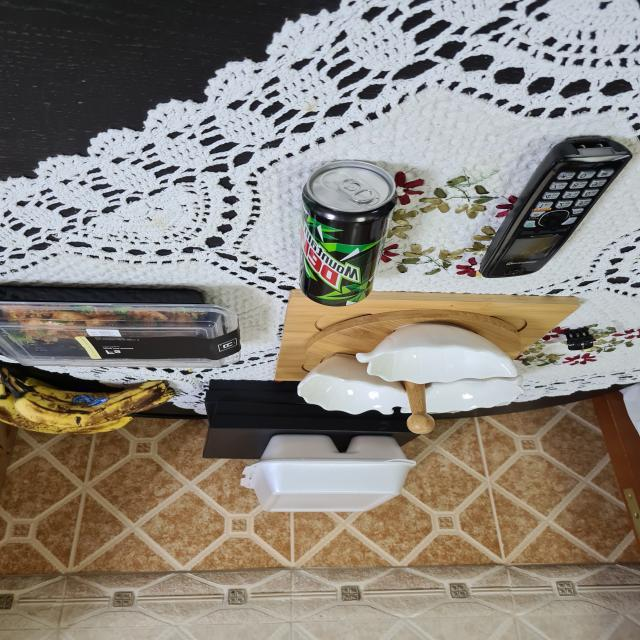can: (298, 168, 386, 306)
